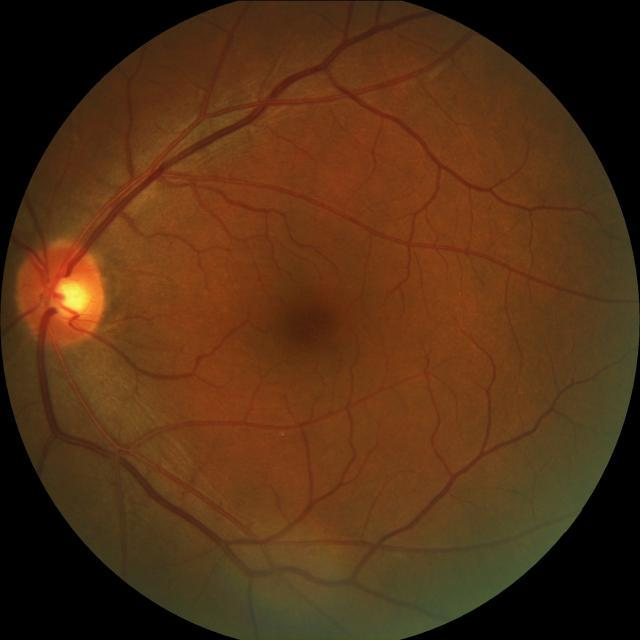OC: (54, 278, 87, 317)
OD: (14, 239, 105, 345)
